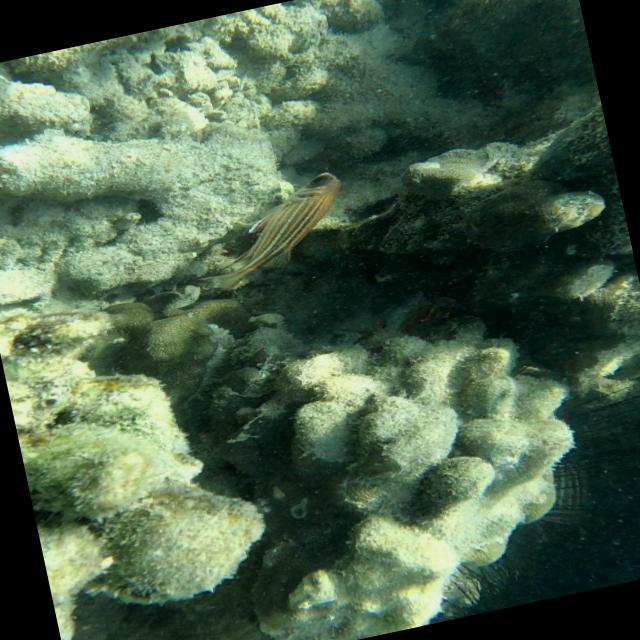Asker Baligi: (160, 153, 384, 310)
